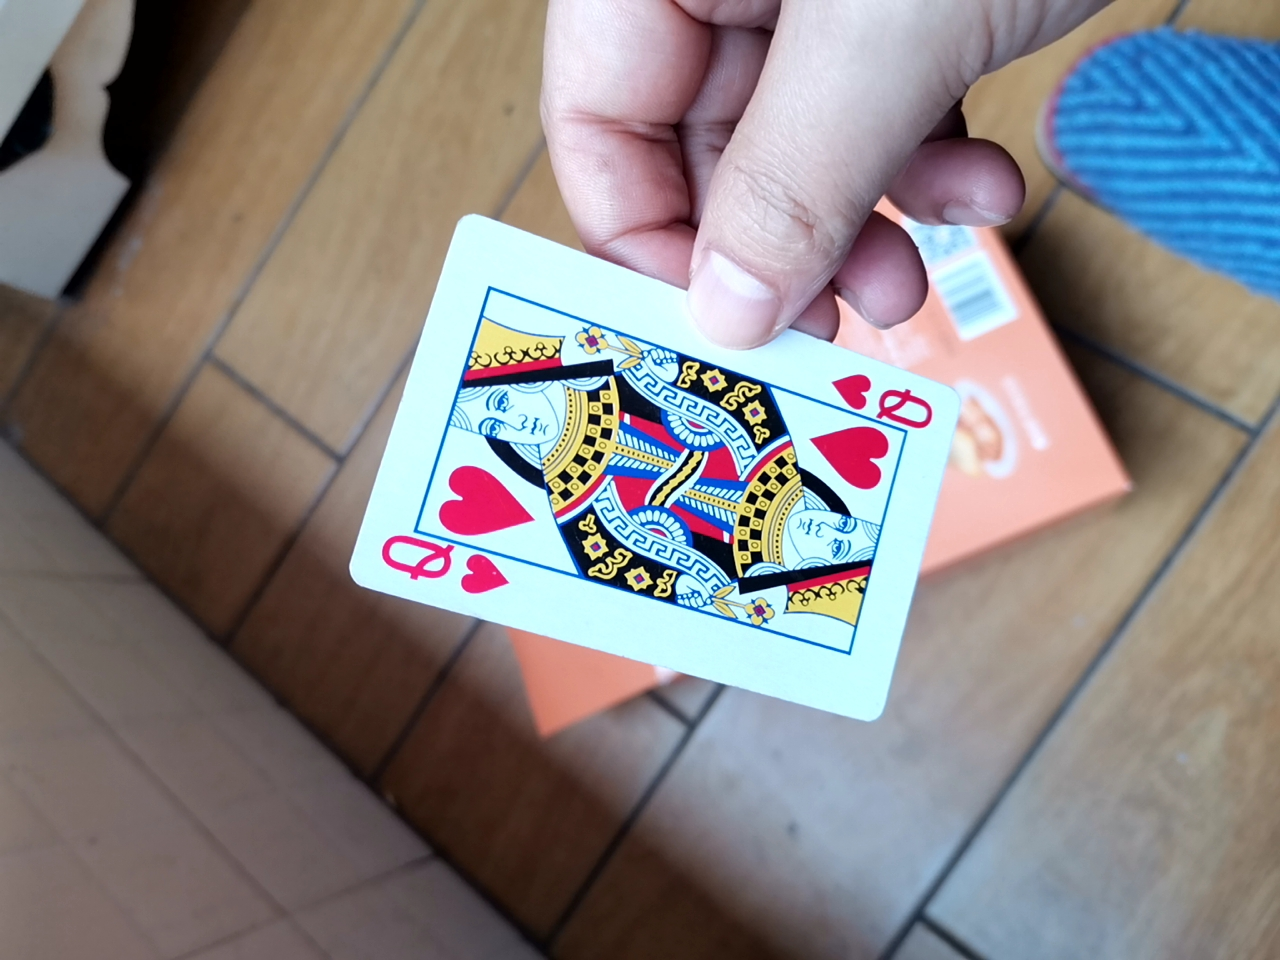hx q: (328, 208, 1006, 716)
